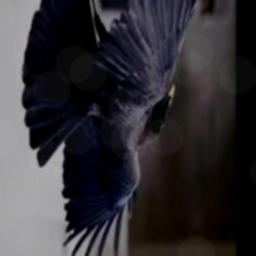Crow: (22, 0, 217, 256)
